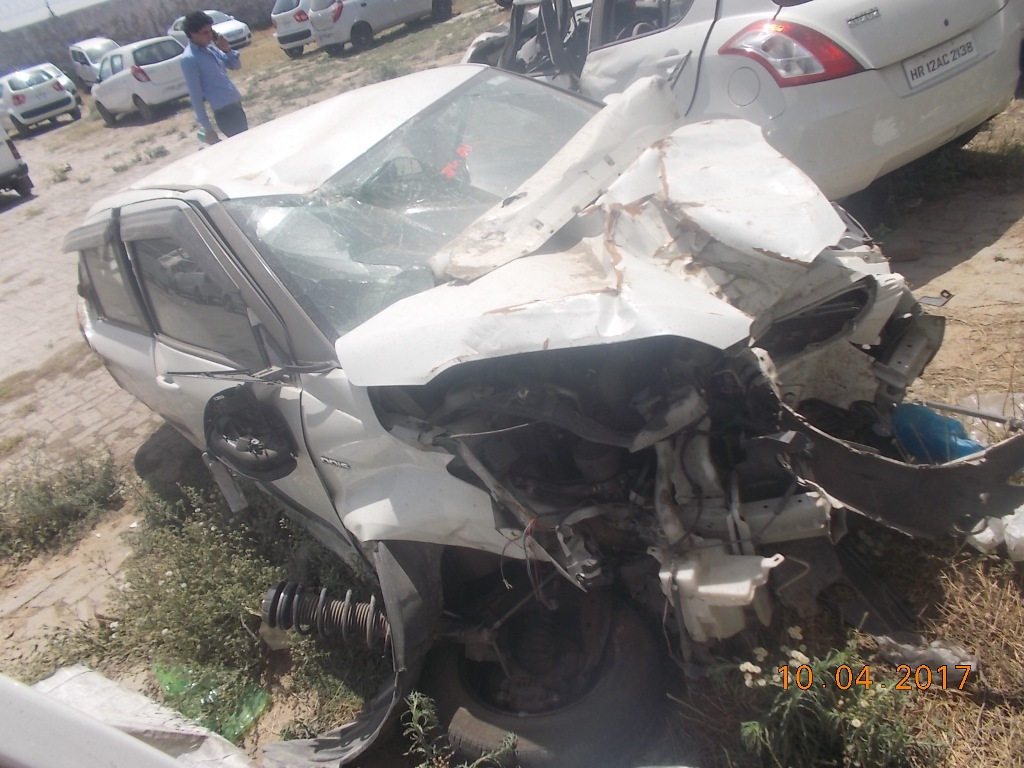Large_tear_or_damage: (304, 147, 854, 580)
